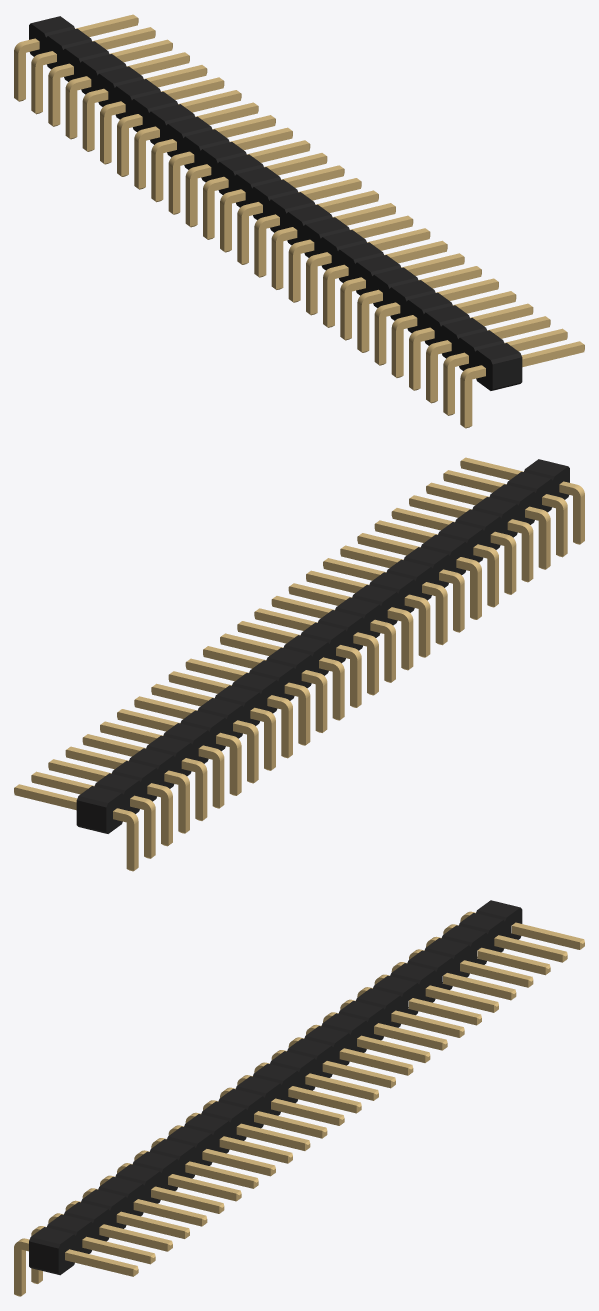
The model's file is kc-pinheader_1x27_p2.54mm_horizontal.glb.
3 views of the same model, one above another, from view 1: azimuth 30°, elevation 25°; view 2: azimuth 150°, elevation 25°; view 3: azimuth 330°, elevation 25° (orthographic).
Parts seen in each view (by area): view 1: 0.75_0.5_0.25_0.9, 0_0_0_0; view 2: 0.75_0.5_0.25_0.9, 0_0_0_0; view 3: 0.75_0.5_0.25_0.9, 0_0_0_0.
Boxes of the visible parts, <box> form: 0.75_0.5_0.25_0.9: <box>14,14,584,428</box>; 0_0_0_0: <box>29,16,522,390</box>; 0.75_0.5_0.25_0.9: <box>14,457,584,871</box>; 0_0_0_0: <box>76,459,569,833</box>; 0.75_0.5_0.25_0.9: <box>14,911,584,1296</box>; 0_0_0_0: <box>29,900,522,1275</box>.
Bounding box in the file's own units: 1.04 × 0.5539 × 6.86.
